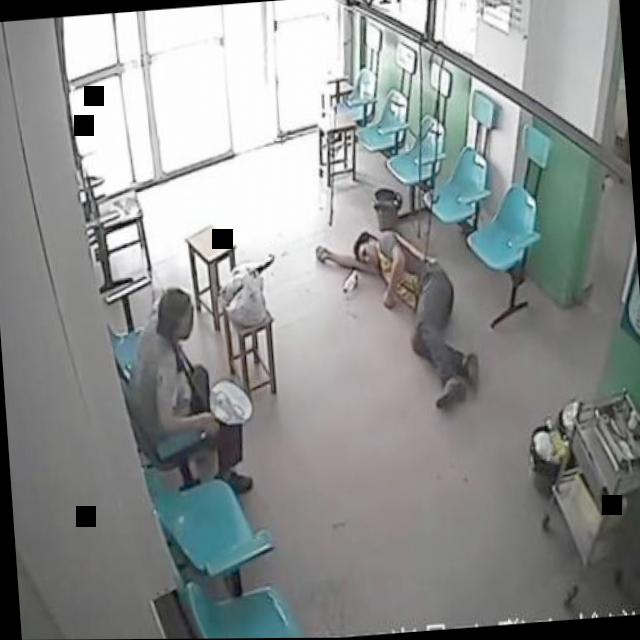Fall-Detected: (307, 198, 487, 422)
